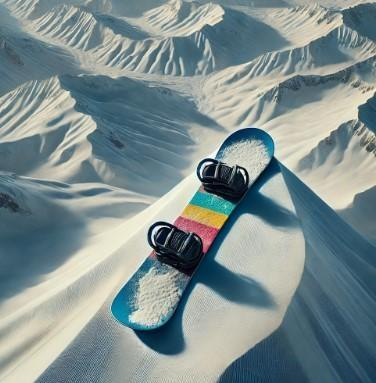Snowboard: (94, 107, 294, 348)
